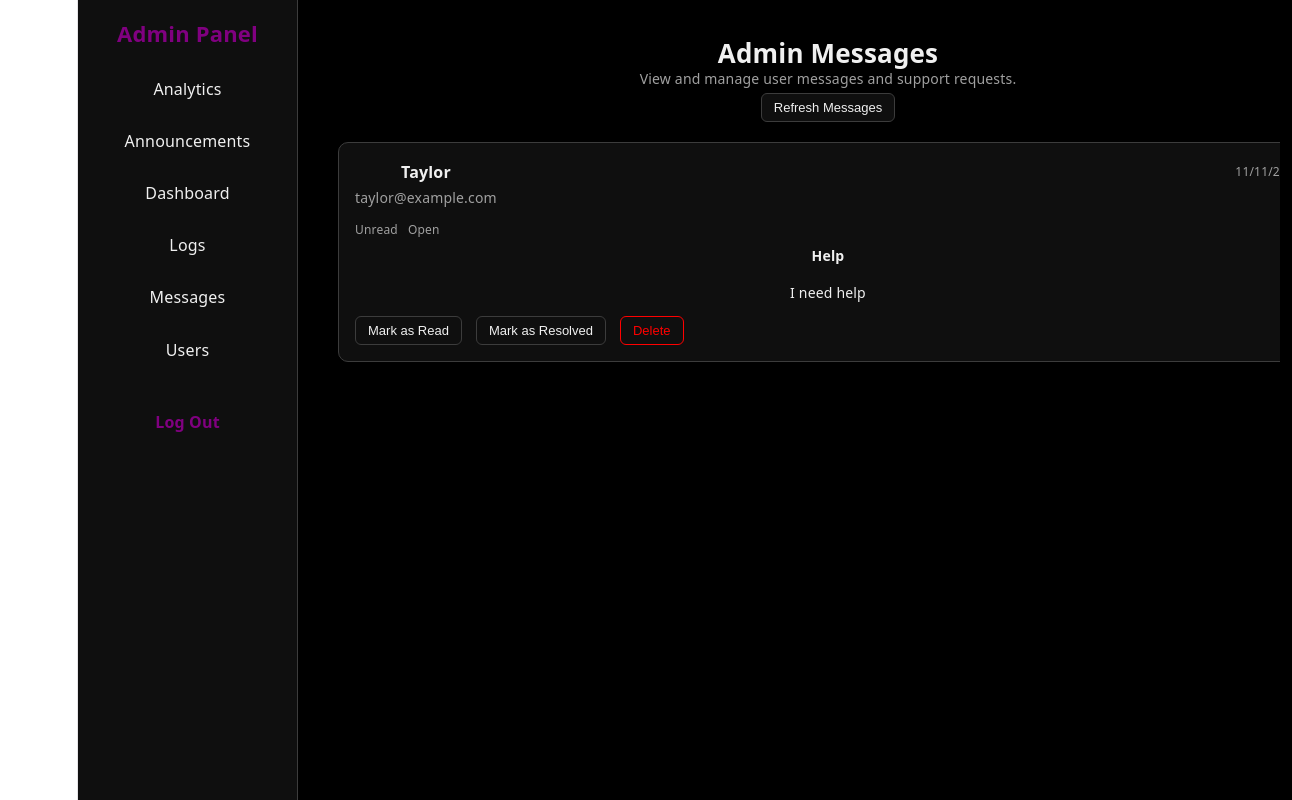
Test case: Admin pages › admin messages separately mark a message as read and resolved
Expected: the text "I need help" is shown, [790,283,866,302]
Expected: the text "Unread" is shown, [355,217,398,244]
Click the button "Mark as Resolved" at [541, 330], box [476,316,606,345]
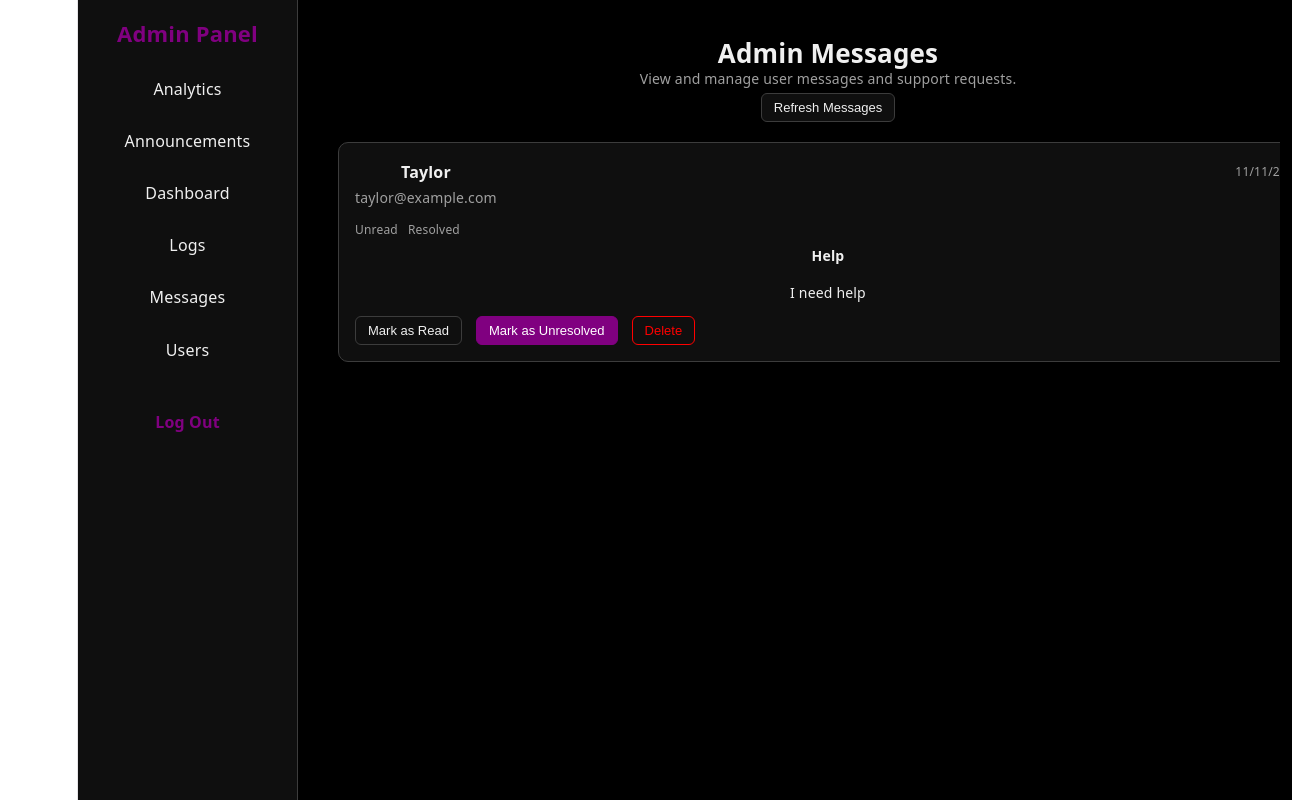
Expected: the text "Unread" is shown, [355,217,398,244]
Expected: the text "Resolved" is shown, [408,217,460,244]
Click the button "Mark as Read" at [408, 330], box [355,316,462,345]
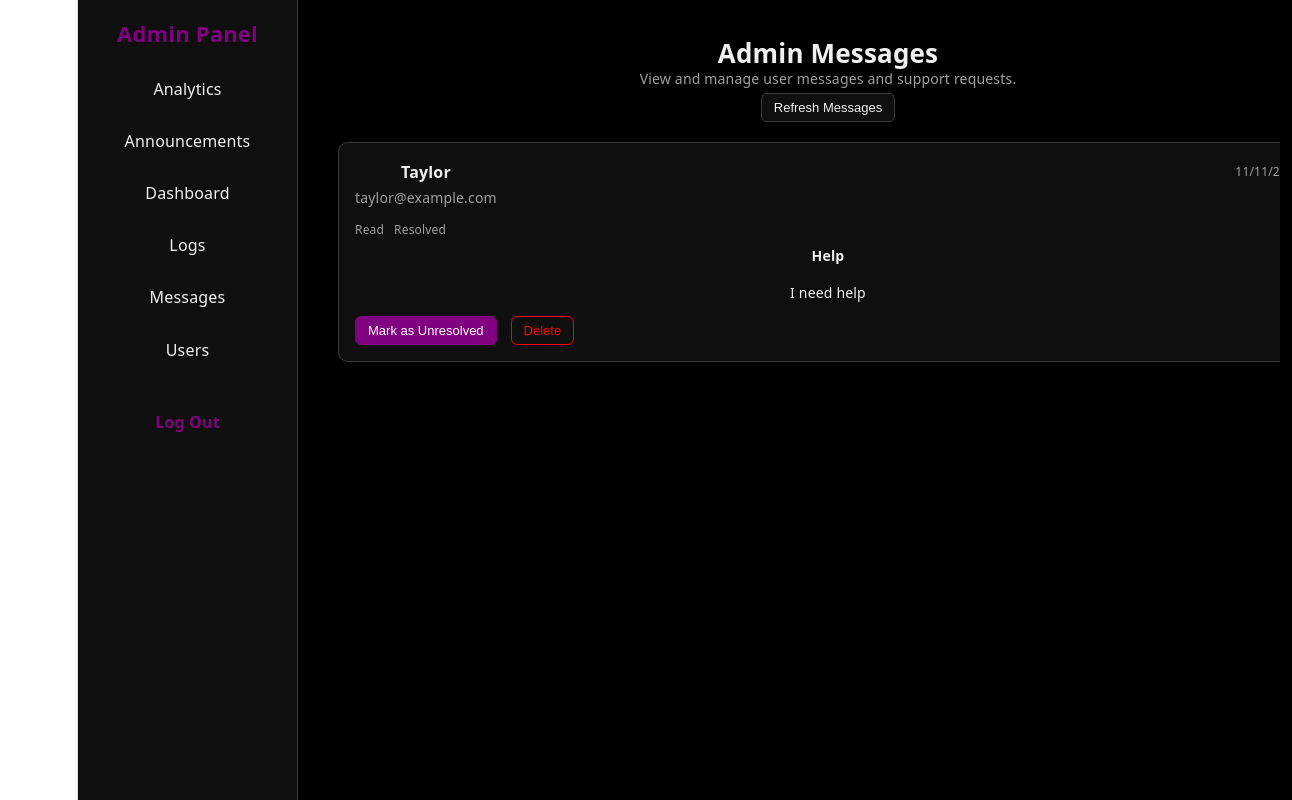
Expected: the text "Read" is shown, [355,217,384,244]
Expected: the text "Resolved" is shown, [394,217,446,244]
Expected: the button "Mark as Read" is gone
